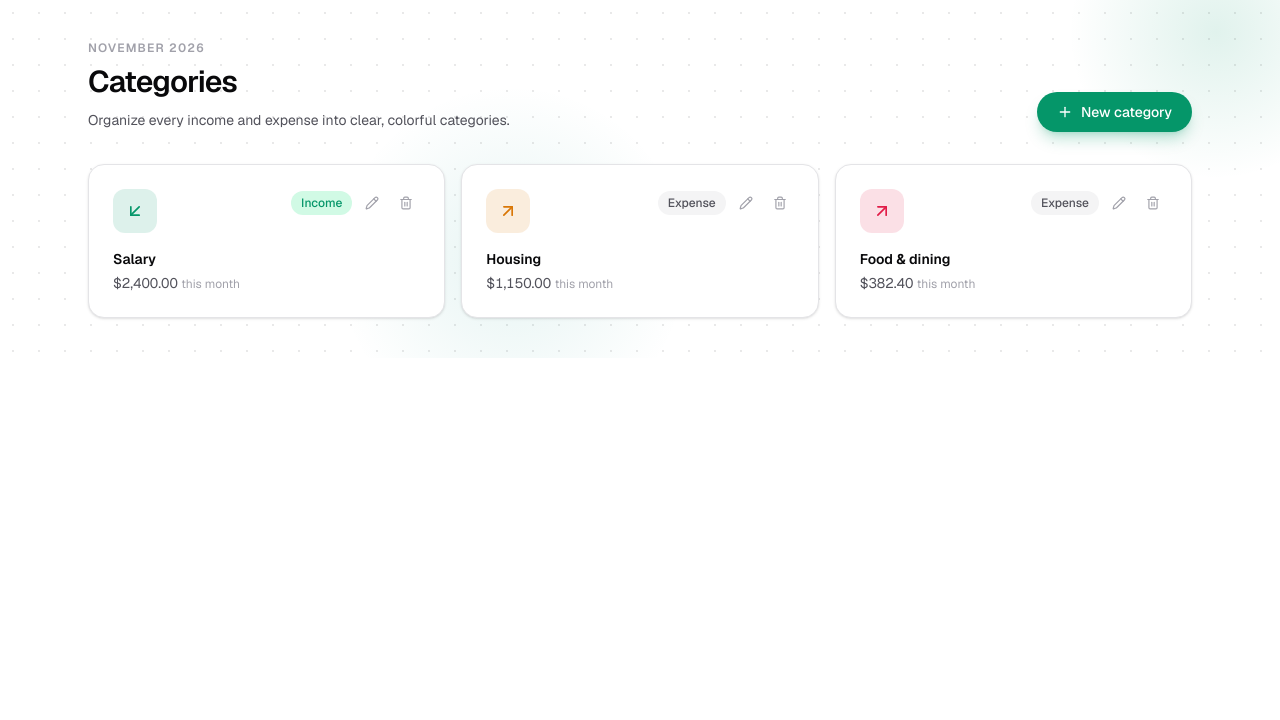
Scenario: CategoriesView › asks before deleting a category and names where its transactions go
This screenshot has width=1280, height=720.
What coordinates should you click on to do the following:
click the button named "Delete Food & dining"
I would click on:
 (1153, 203)
Its box is [1139, 189, 1167, 217].
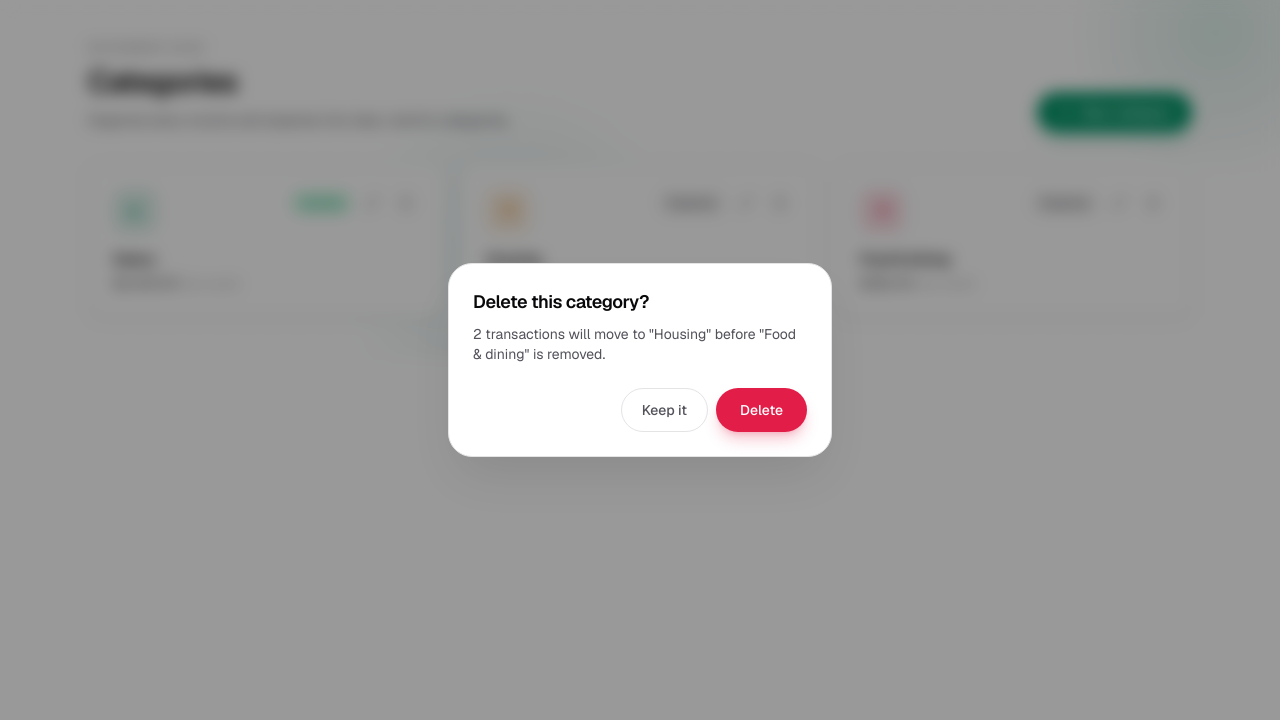
Now the dialog "Delete this category?" is shown, box [448, 263, 832, 457]
Now the text "2 transactions will move to \"Housing\" before \"Food & dining\" is removed." is shown, box [473, 324, 807, 364]
